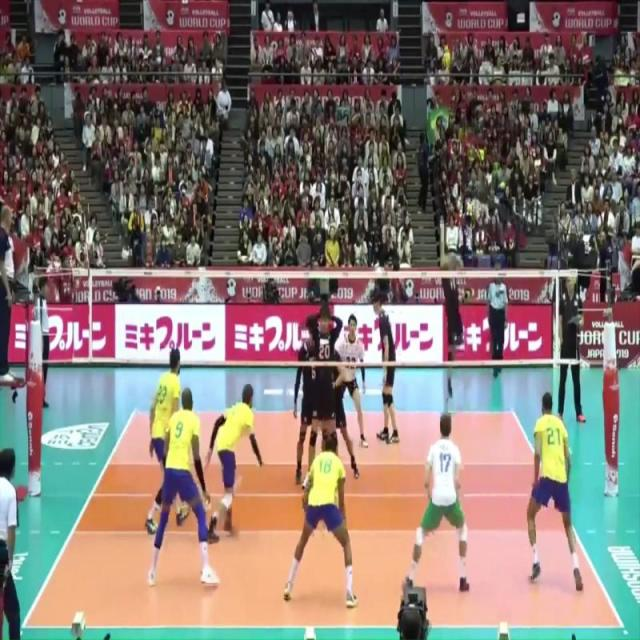volleyball: (441, 49, 454, 70)
